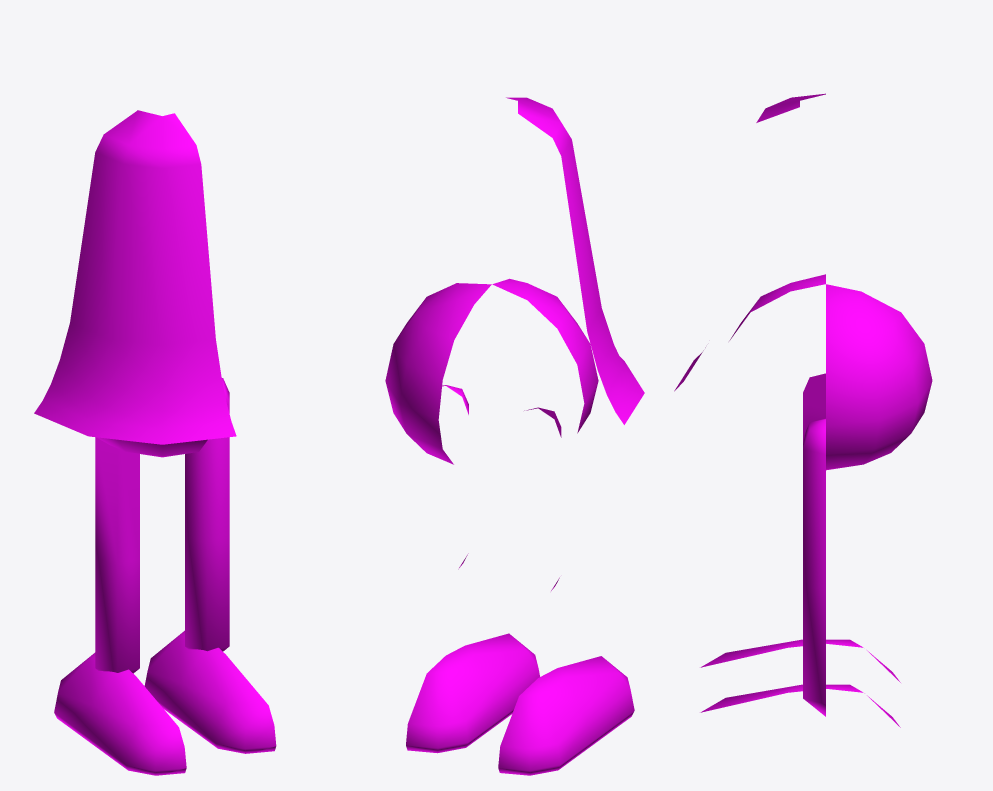
Rendered from ava_bodyB1__ava_bodyB1.glb.
The picture shows the model from 3 angles, left to right: view 1: azimuth 30°, elevation 25°; view 2: azimuth 150°, elevation 25°; view 3: azimuth 270°, elevation 25°; orthographic projection. The views are drawn at different scales.
Visible parts, largest first — view 1: polygon0; view 2: polygon0; view 3: polygon0.
Part boxes in pixels (<box>): polygon0: <box>34,110,276,775</box>; polygon0: <box>385,97,644,775</box>; polygon0: <box>674,93,932,727</box>.
Size of the model in its own units: 4.3 by 11 by 4.3.
Materials: 1 (1 with a texture image).
